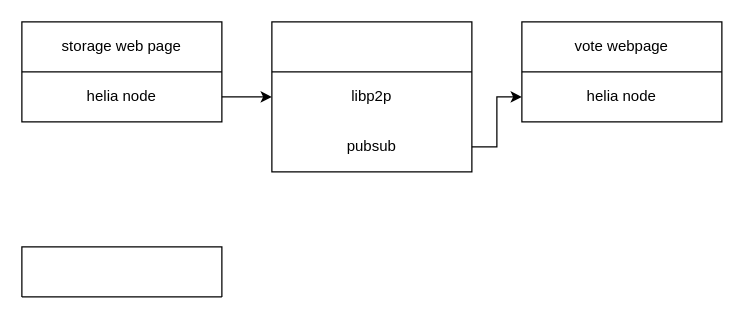
This 744x319 diagram has some shape labels left out. The shapes that lost their labels are listed below. From the top down, each one's box as (x1, y1, x2, y2) in pixels, then its label:
(271, 21, 472, 172): services
(21, 246, 222, 297): datastore
